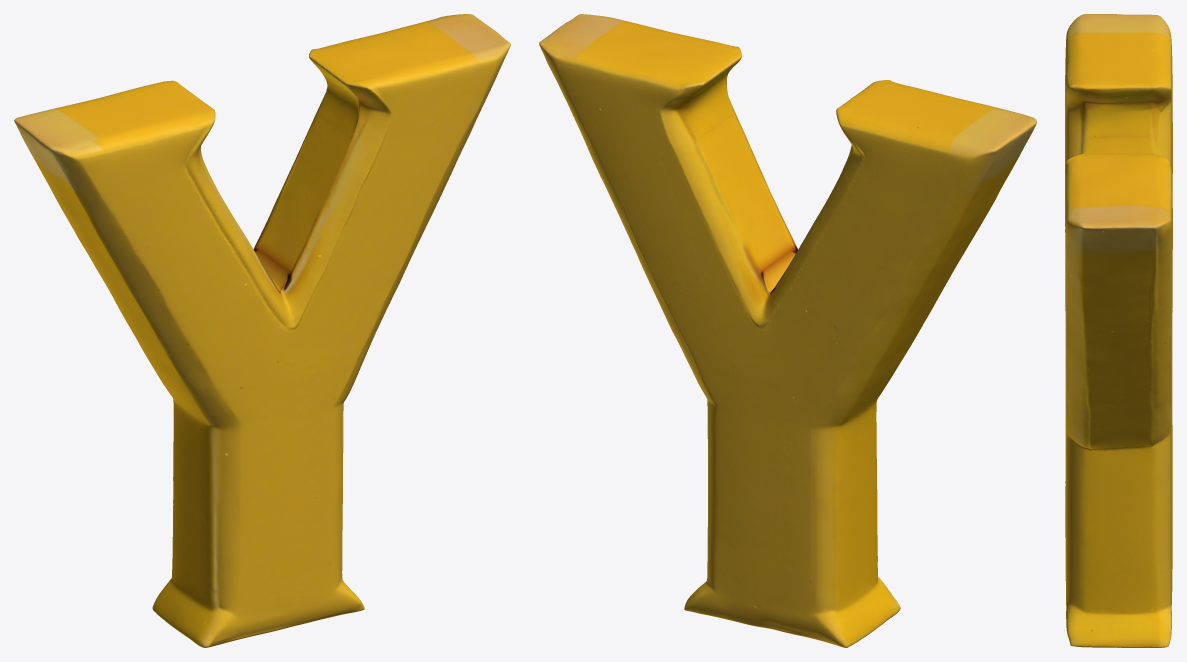
Rendered from Meshy_AI_generami_la_lettera_Y_0507174344_texture.glb.
The picture shows the model from 3 angles, left to right: view 1: azimuth 30°, elevation 25°; view 2: azimuth 150°, elevation 25°; view 3: azimuth 270°, elevation 25°; orthographic projection. The views are drawn at different scales.
Bounding box in the file's own units: 1.8 × 2 × 0.394.
1 material, 1 textured.
